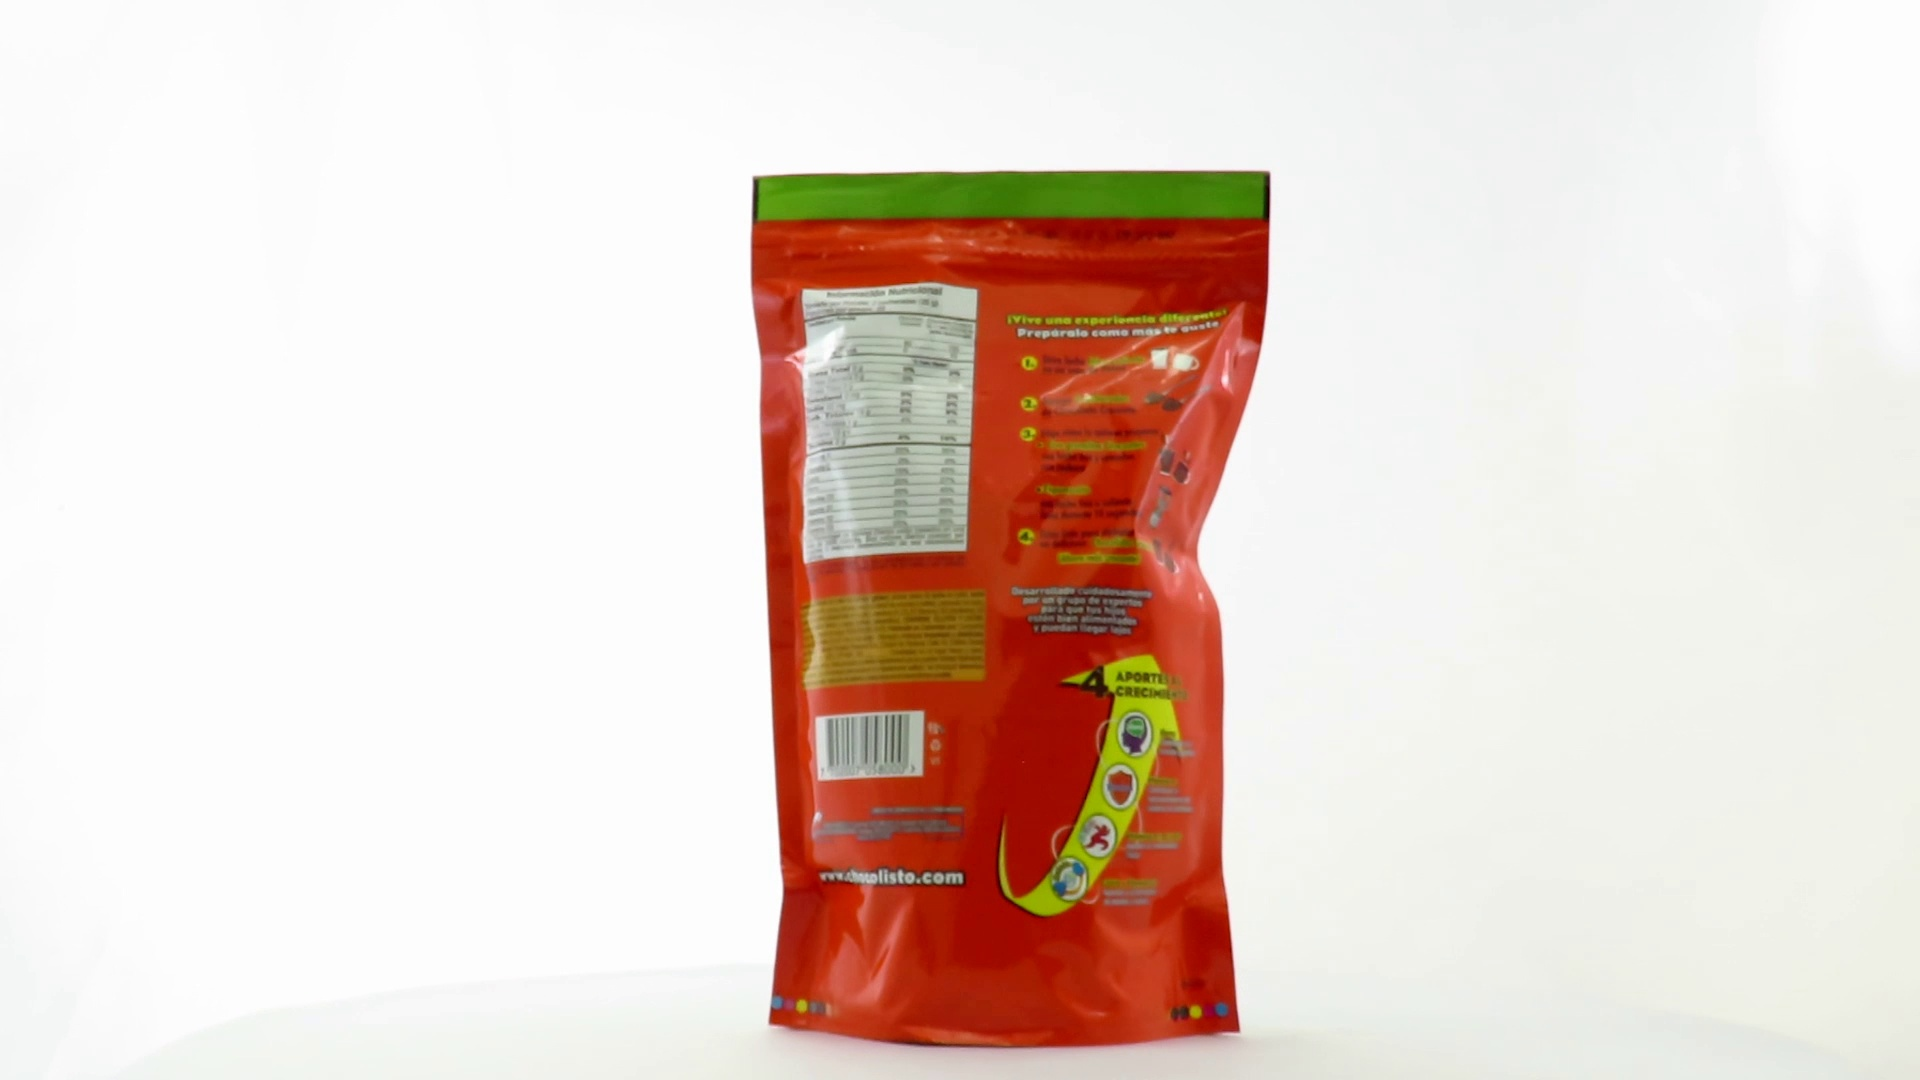COL0170102DYP50000: (746, 165, 1276, 1055)
